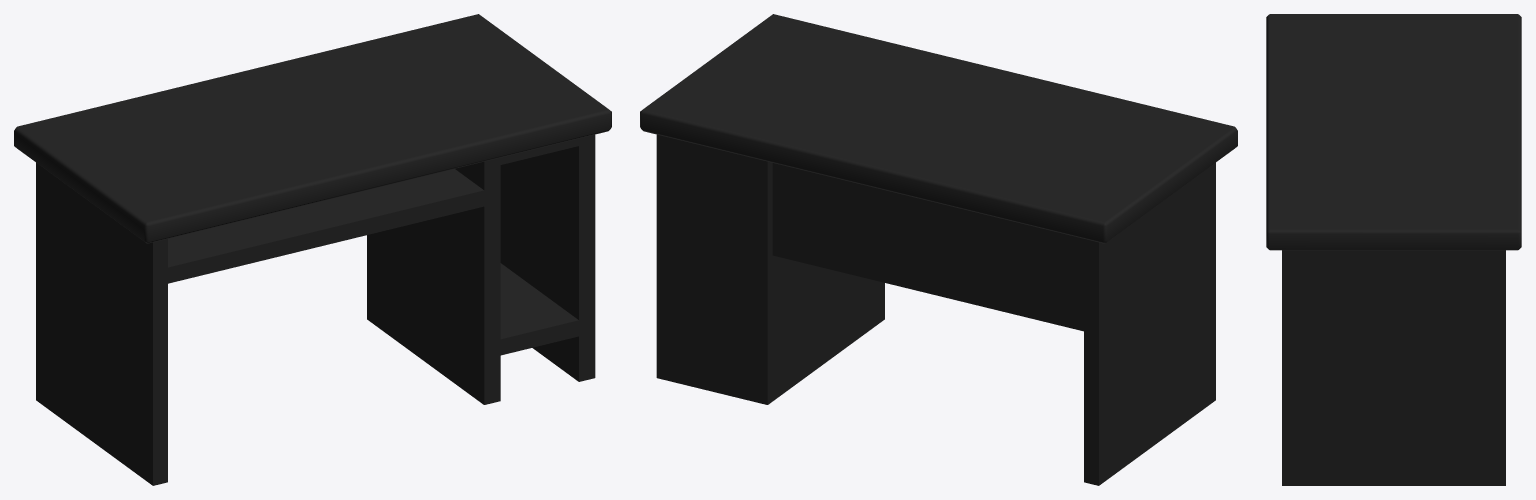
The model's file is work_table_005.fbx.
The picture shows the model from 3 angles, left to right: view 1: azimuth 30°, elevation 25°; view 2: azimuth 150°, elevation 25°; view 3: azimuth 270°, elevation 25°; orthographic projection. The views are drawn at different scales.
Parts seen in each view (by area): view 1: work_table_005; view 2: work_table_005; view 3: work_table_005.
Part boxes in pixels (x1,y1,x2,y2): work_table_005: [14, 14, 611, 485]; work_table_005: [640, 14, 1237, 485]; work_table_005: [1266, 14, 1521, 485].
Bounding box in the file's own units: 165 × 81.5 × 91.5.
